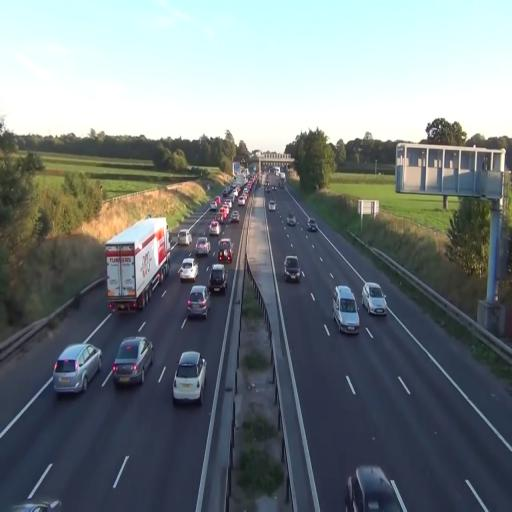vehicle: (105, 215, 170, 312), (348, 465, 408, 512), (53, 340, 101, 396), (112, 336, 154, 388), (172, 350, 206, 404), (333, 284, 360, 335), (362, 281, 387, 317), (187, 284, 209, 319), (208, 264, 226, 295), (179, 256, 198, 285), (283, 255, 302, 283), (218, 237, 233, 266), (194, 238, 210, 257), (308, 221, 318, 233)
